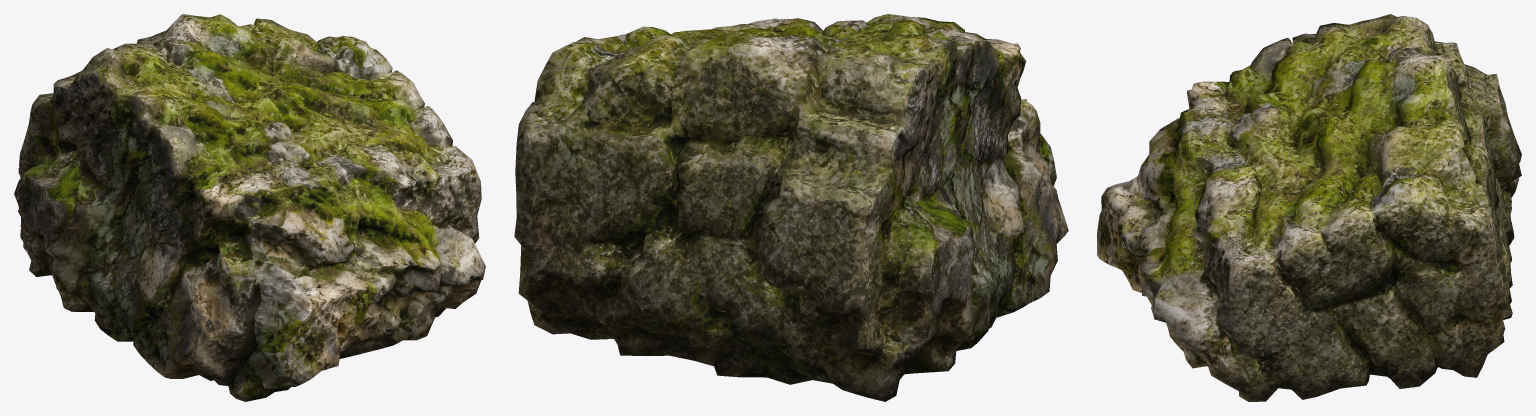
File: ROC_RocaMusgo_01_LOD0.fbx
3 renders of one model, left to right at view 1: azimuth 30°, elevation 25°; view 2: azimuth 150°, elevation 25°; view 3: azimuth 270°, elevation 25°, orthographic. The views are drawn at different scales.
Visible parts, largest first — view 1: ROC_RocaMusgo_01_Mesh000; view 2: ROC_RocaMusgo_01_Mesh000; view 3: ROC_RocaMusgo_01_Mesh000.
Part boxes in pixels (left/top/right/bottom): ROC_RocaMusgo_01_Mesh000: left=14, top=14, right=485, bottom=401; ROC_RocaMusgo_01_Mesh000: left=514, top=14, right=1068, bottom=401; ROC_RocaMusgo_01_Mesh000: left=1097, top=14, right=1521, bottom=401.
Bounding box in the file's own units: 1.4 × 1.01 × 1.5.
